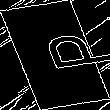P_W: (8, 31, 102, 79)
